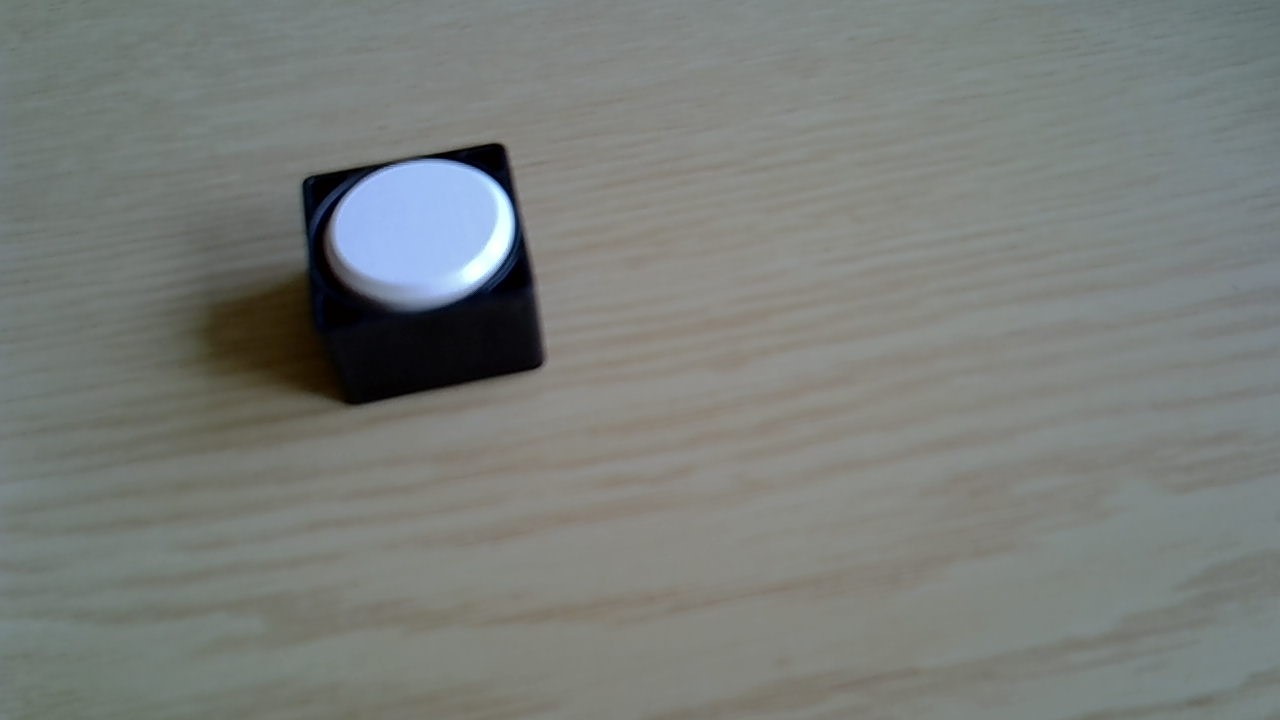Behaelter: (298, 142, 549, 406)
WerkStueck: (325, 159, 519, 312)
